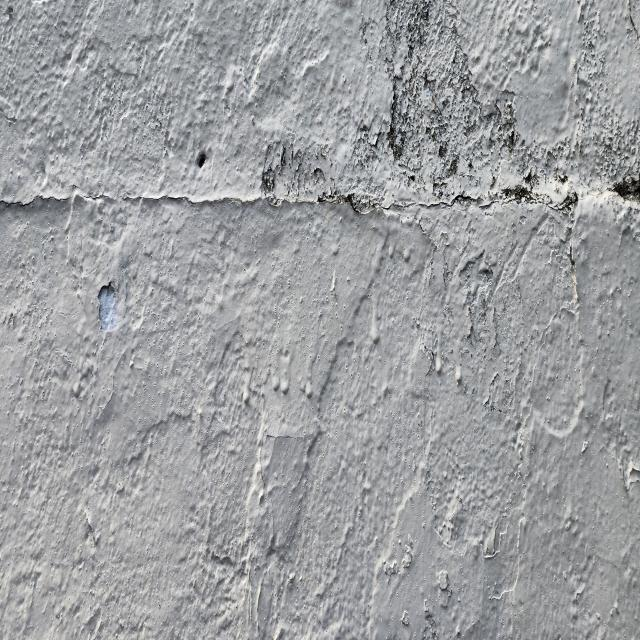SurfaceCrack: (0, 156, 621, 260)
